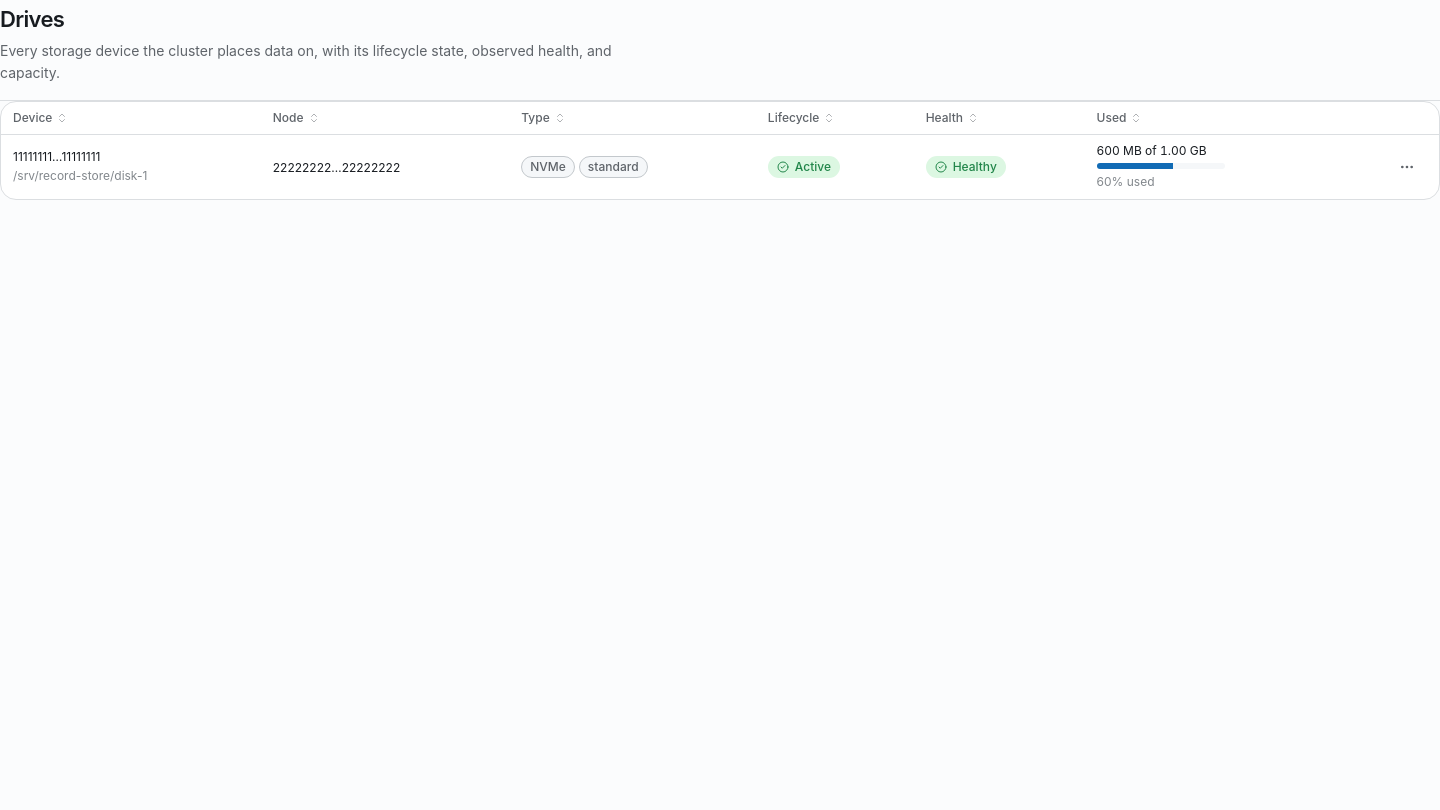
Test: DrivesScreen › describes the safe-to-remove check as a question the server answers
Click the button named "Actions for device 11111111-1111-4111-8111-111111111111" at (1407, 167), box [1387,147,1427,187]
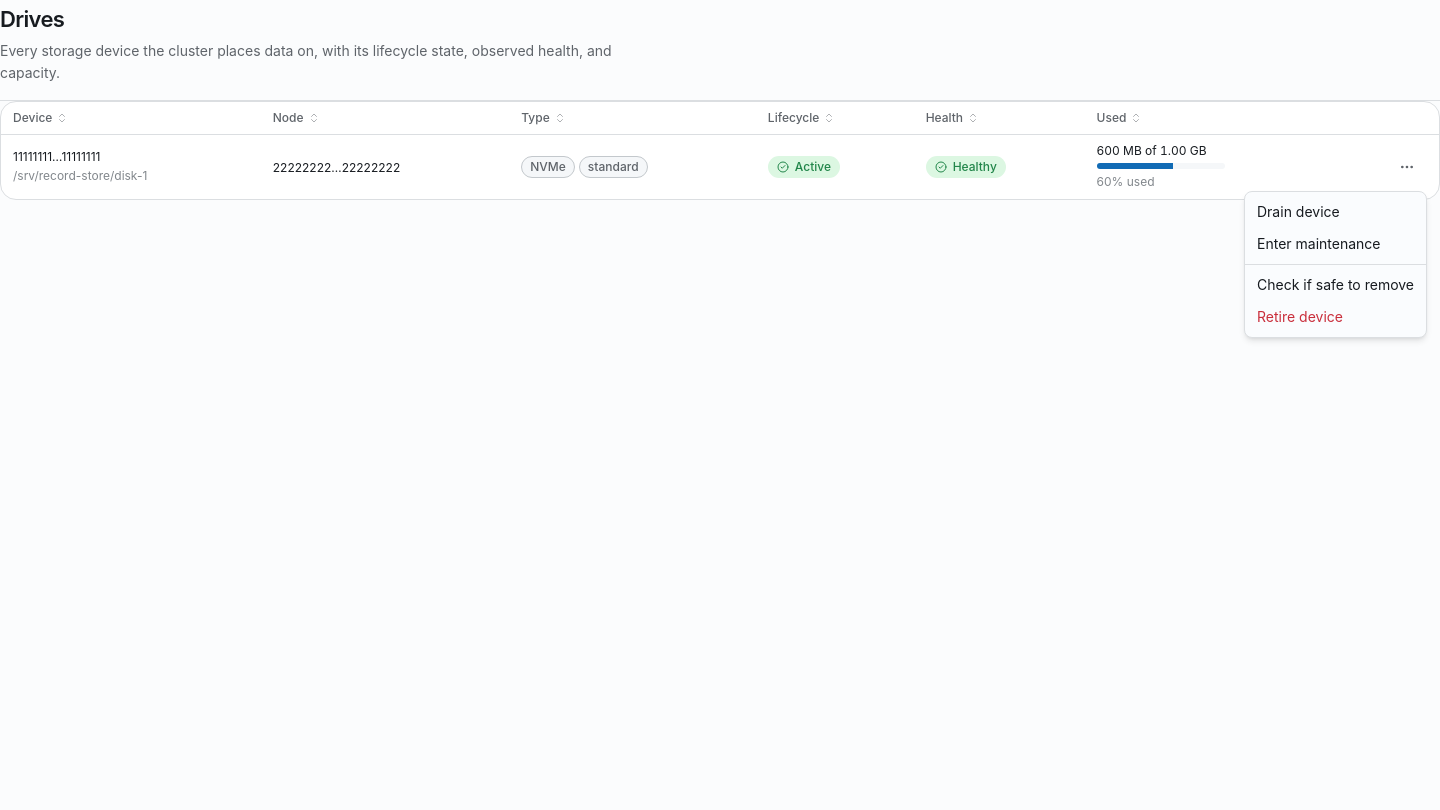
Click the menu item "Check if safe to remove" at (1336, 284), box [1257,276,1414,293]
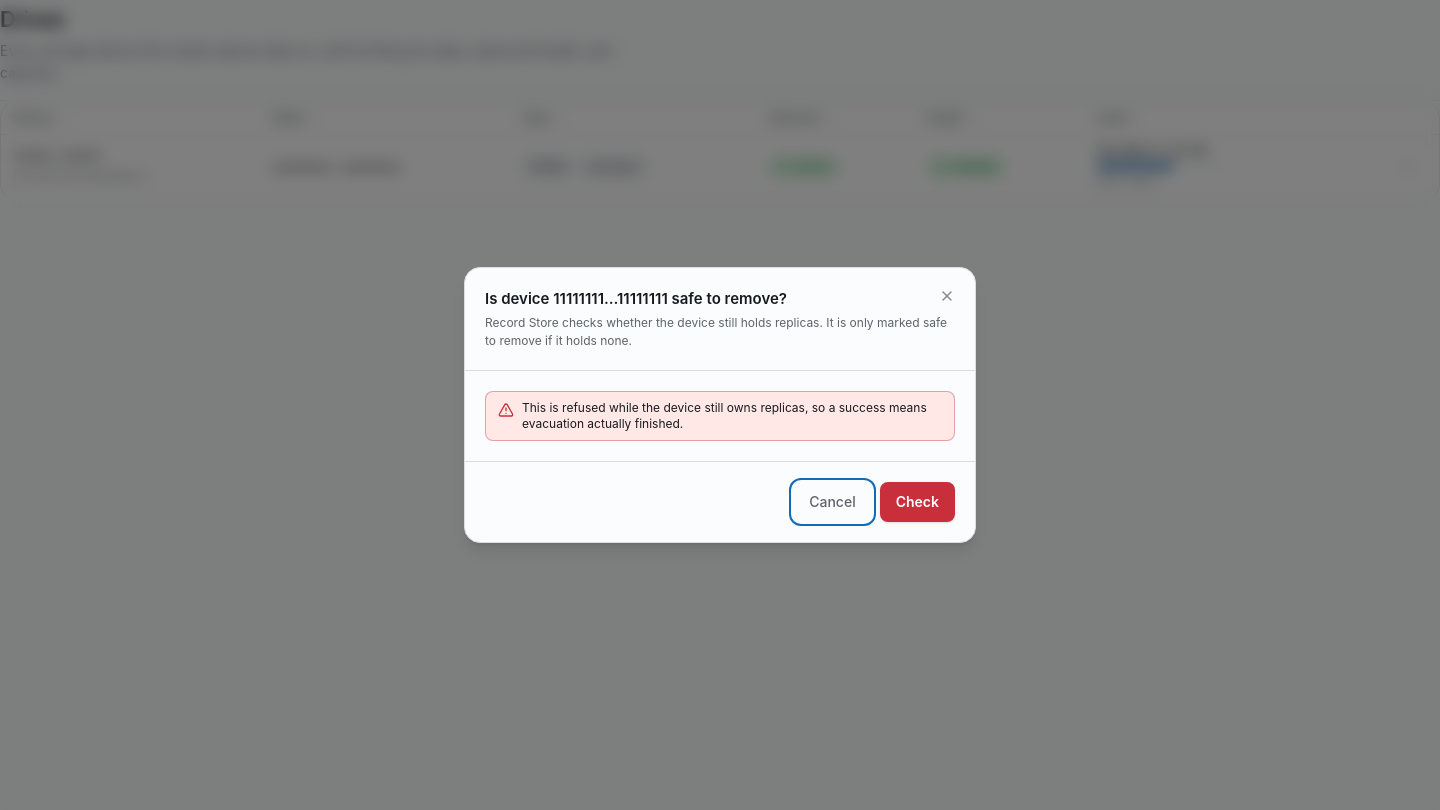
Expected: the text "refused while the device still owns replicas" is shown, [522,400,927,431]
